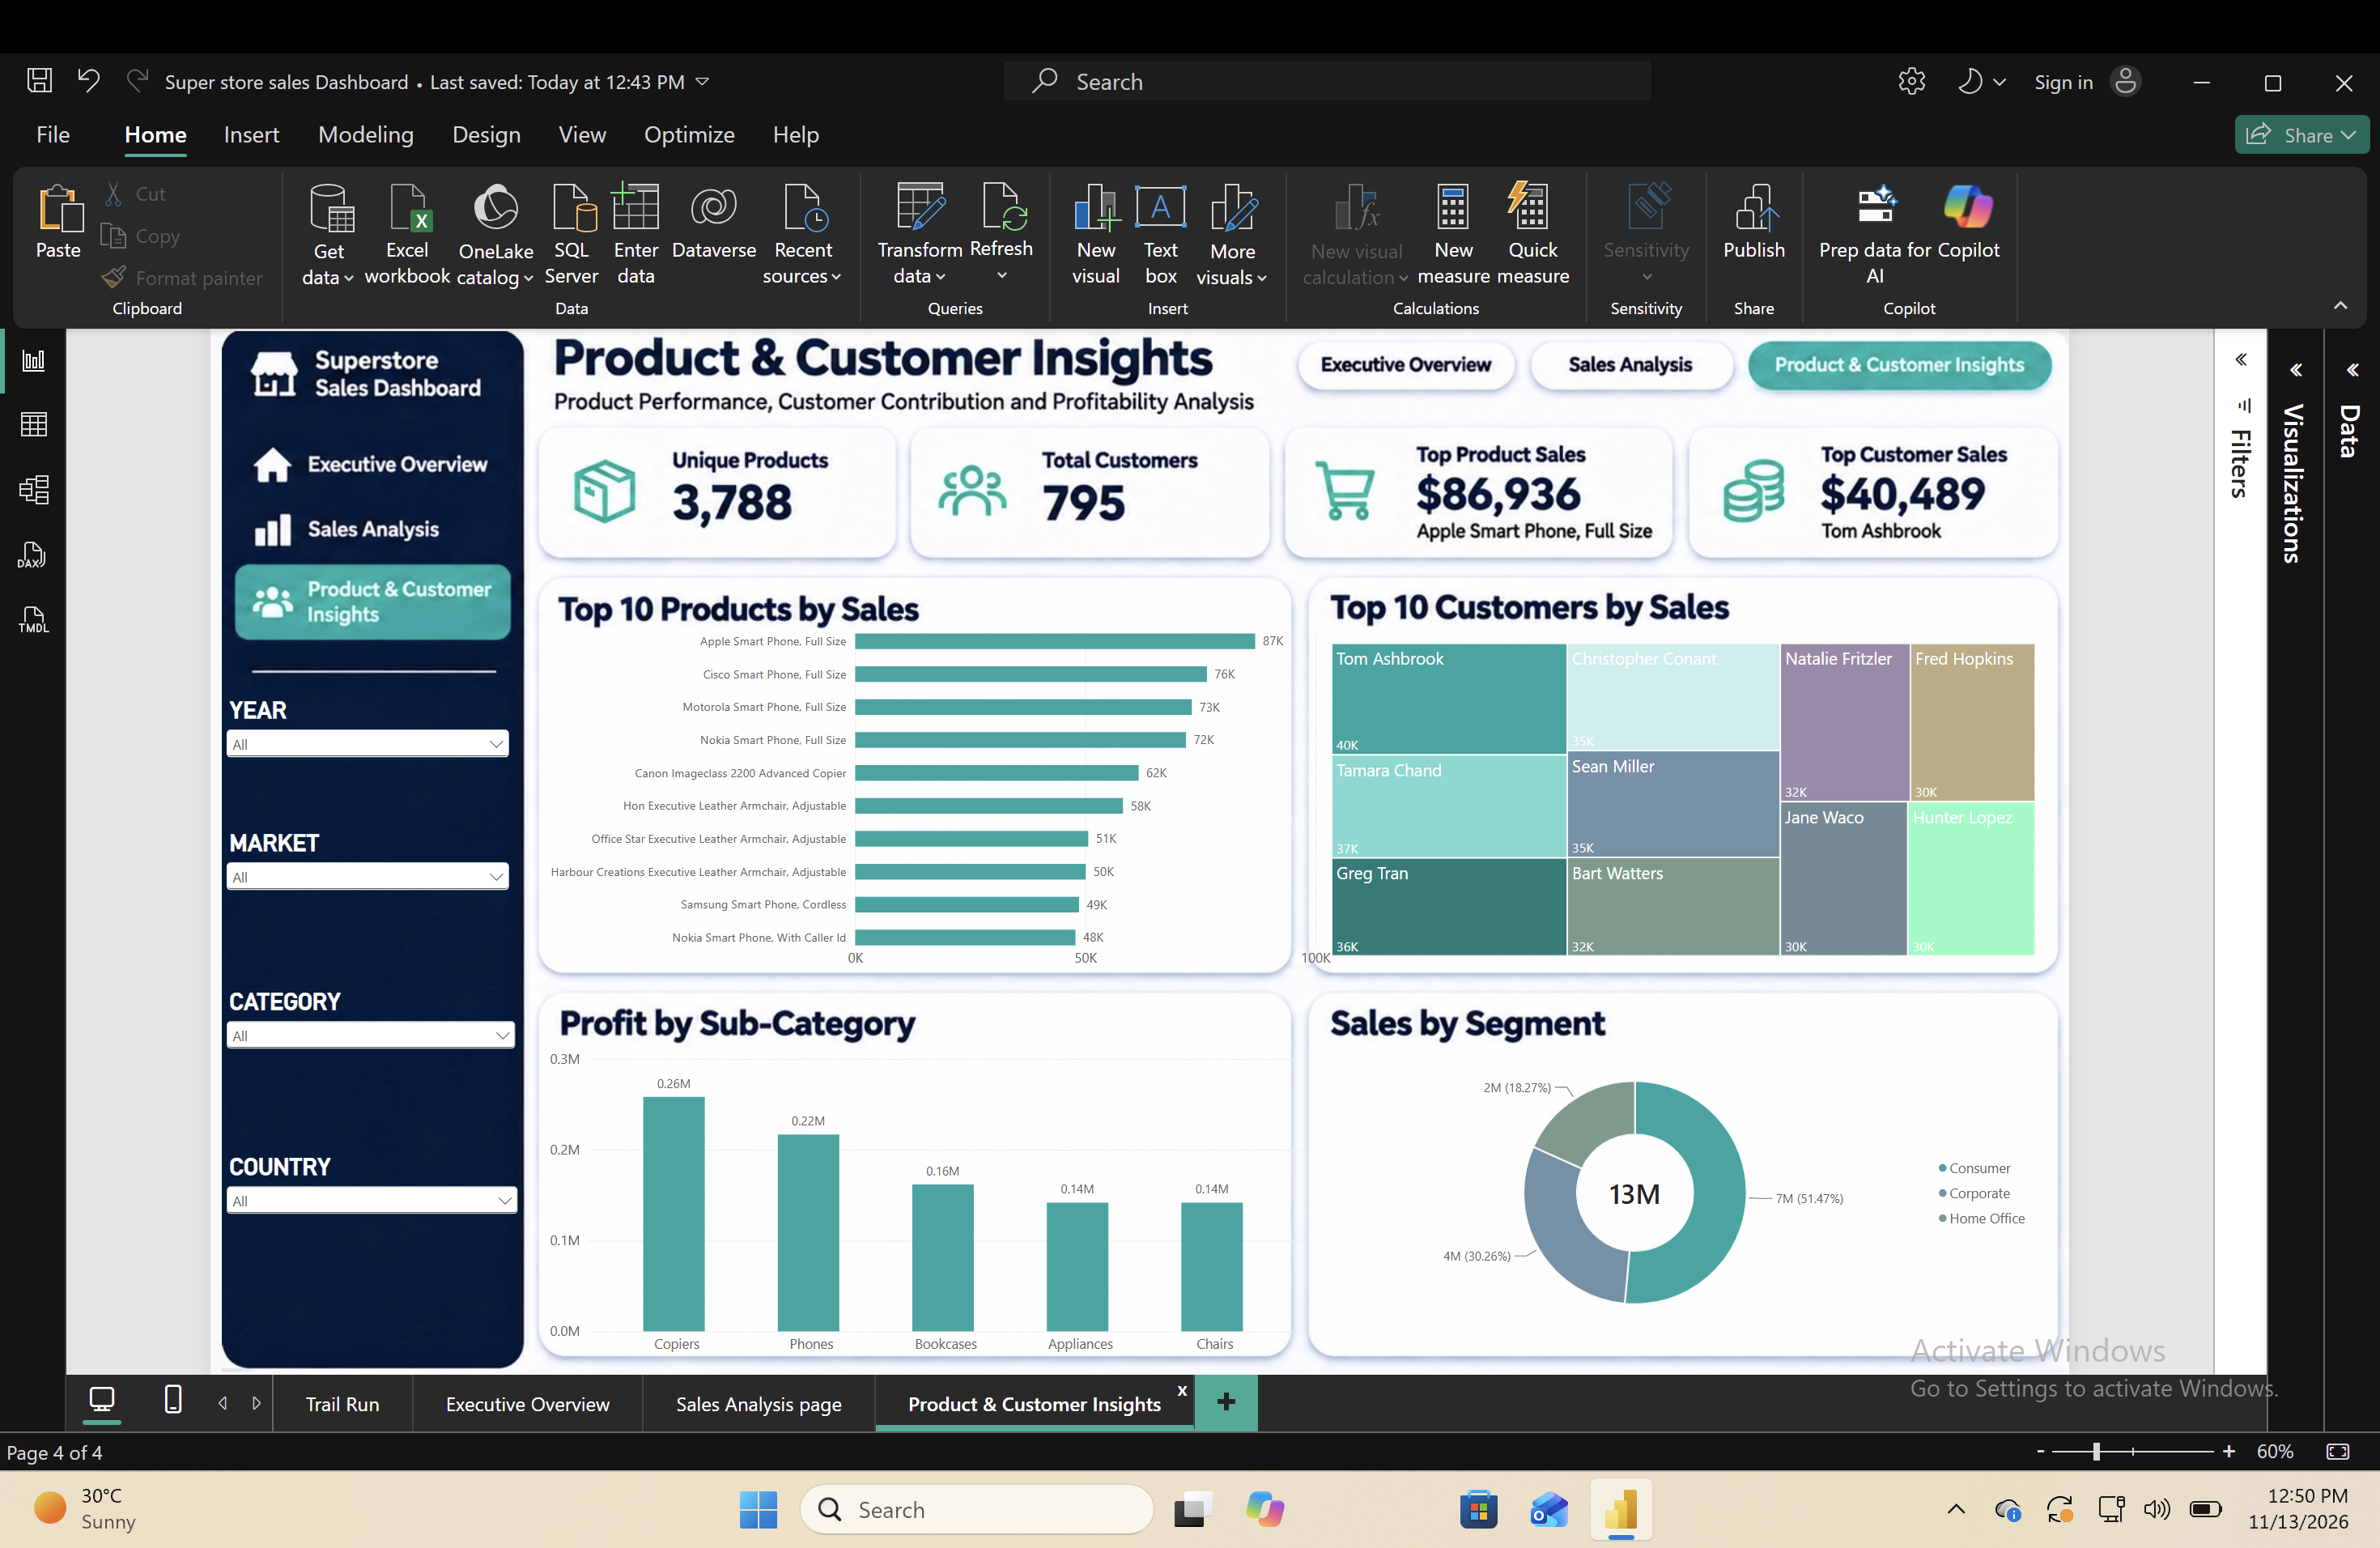

This screenshot's page, from the dashboard's own definition file:
{"tool":"powerbi","page":{"name":"Product & Customer Insights","canvas":[1920,1080],"ordinal":3},"visuals":[{"type":"image","box":[11.1,0,1908.9,1079.7],"z":0},{"type":"clusteredBarChart","fields":{"Category":["cleaned_dataset.product_name"],"Y":["cleaned_dataset.Total Sales"]},"box":[312.6,292.7,860.2,388],"z":1},{"type":"treemap","fields":{"Group":["cleaned_dataset.customer_name"],"Values":["cleaned_dataset.Total Sales"]},"box":[1141.8,310.4,758.2,352.5],"z":2},{"type":"clusteredColumnChart","fields":{"Category":["cleaned_dataset.sub_category"],"Y":["cleaned_dataset.Total Profit"]},"box":[334.8,729.4,809.2,350.3],"z":3},{"type":"donutChart","fields":{"Category":["cleaned_dataset.segment"],"Y":["cleaned_dataset.Total Sales"]},"box":[1144,729.4,756,328.1],"z":4},{"type":"slicer","fields":{"Values":["cleaned_dataset.year"]},"box":[11.1,379.1,301.5,79.8],"z":5},{"type":"slicer","fields":{"Values":["cleaned_dataset.market"]},"box":[11.1,516.6,301.5,86.5],"z":6},{"type":"slicer","fields":{"Values":["cleaned_dataset.category"]},"box":[11.1,680.6,308.2,75.4],"z":7},{"type":"slicer","fields":{"Values":["cleaned_dataset.country"]},"box":[11.1,851.4,310.4,82],"z":8}]}

Visuals, with their boxes on the page's 1920x1080 design canvas (x1, y1, x2, y2). These are canvas units, not pixel positions in the 2380x1548 screenshot, which may show the page scaled, cropped or inside an application window:
image: 11/0/1920/1080
clusteredBarChart - cleaned_dataset.product_name x cleaned_dataset.Total Sales: 313/293/1173/681
treemap - cleaned_dataset.customer_name x cleaned_dataset.Total Sales: 1142/310/1900/663
clusteredColumnChart - cleaned_dataset.sub_category x cleaned_dataset.Total Profit: 335/729/1144/1080
donutChart - cleaned_dataset.segment x cleaned_dataset.Total Sales: 1144/729/1900/1058
slicer - cleaned_dataset.year: 11/379/313/459
slicer - cleaned_dataset.market: 11/517/313/603
slicer - cleaned_dataset.category: 11/681/319/756
slicer - cleaned_dataset.country: 11/851/322/933
